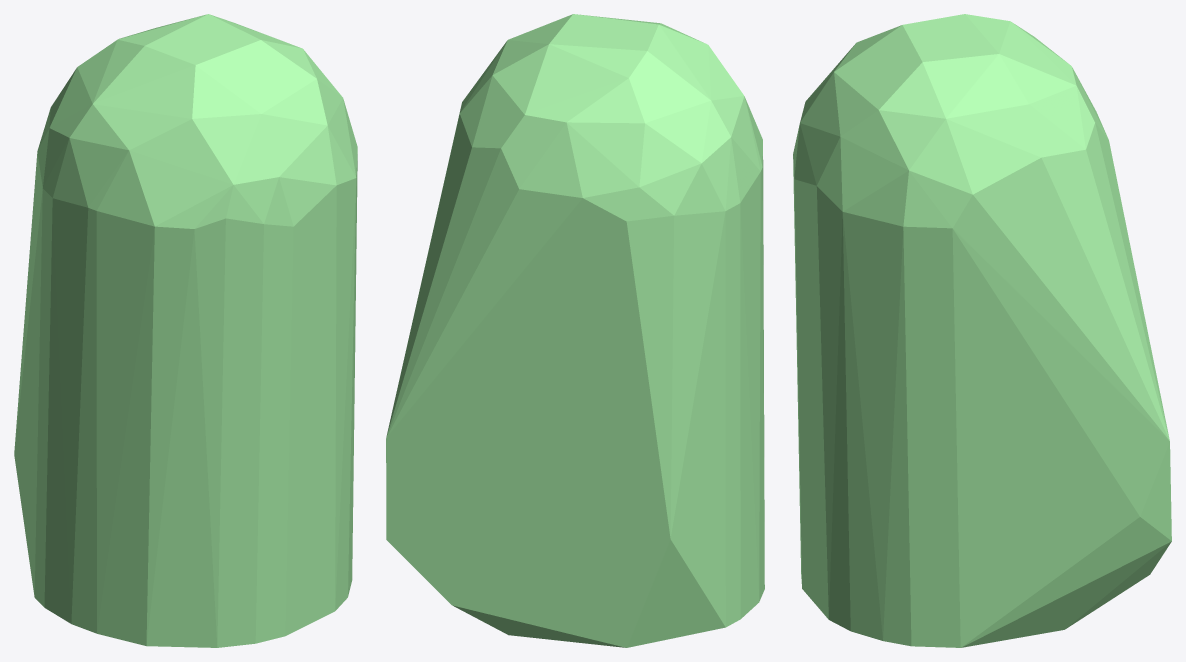
The model's file is dvkr_robot_L_link2_respondable_coll_2.dae.
3 renders of one model, left to right at view 1: azimuth 30°, elevation 25°; view 2: azimuth 150°, elevation 25°; view 3: azimuth 270°, elevation 25°, orthographic.
Parts seen in each view (by area): view 1: Node_0000023514CD64F0; view 2: Node_0000023514CD64F0; view 3: Node_0000023514CD64F0.
Part boxes in pixels (<box>): Node_0000023514CD64F0: <box>14,14,357,647</box>; Node_0000023514CD64F0: <box>386,14,764,647</box>; Node_0000023514CD64F0: <box>793,14,1171,647</box>.
Size of the model in its own units: 0.1523 by 0.2799 by 0.176.
